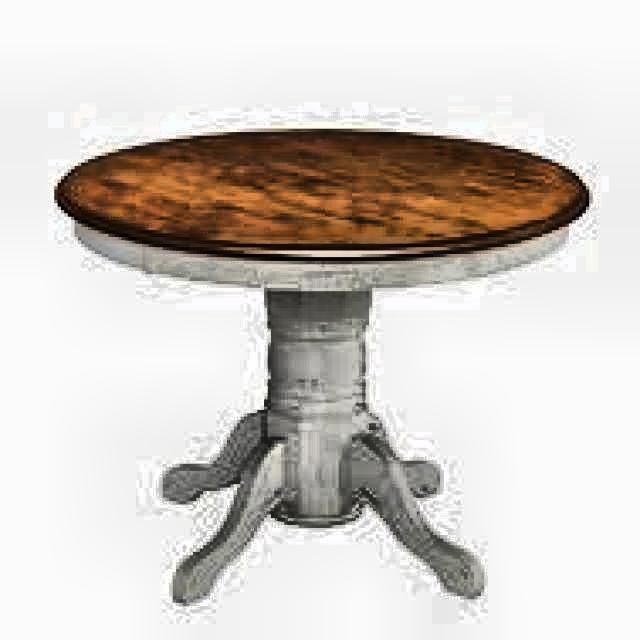mesa: (48, 120, 604, 608)
